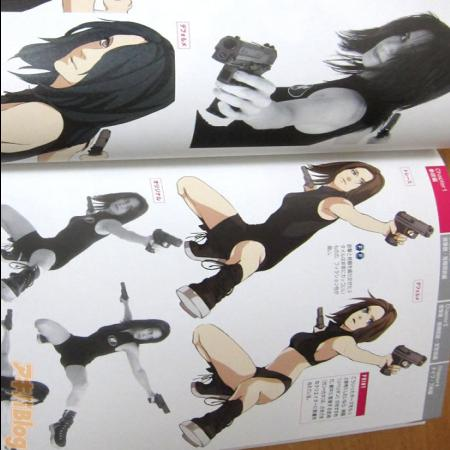Pistol: (214, 33, 280, 83), (388, 204, 432, 248), (379, 342, 426, 376), (146, 225, 184, 255), (376, 111, 404, 139), (88, 128, 113, 154), (148, 388, 173, 414), (2, 307, 18, 329), (312, 307, 326, 329), (302, 164, 314, 186), (119, 281, 131, 301)
